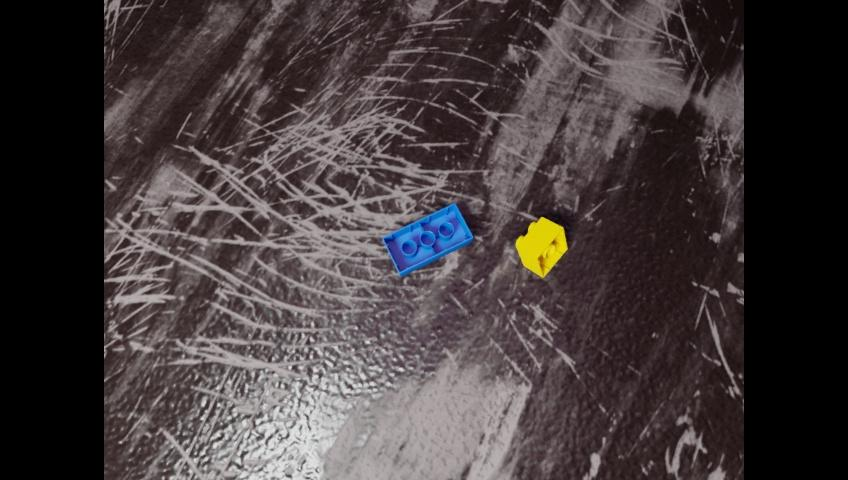2x2_yellow: (516, 216, 566, 277)
4x2_blue: (382, 202, 472, 276)
